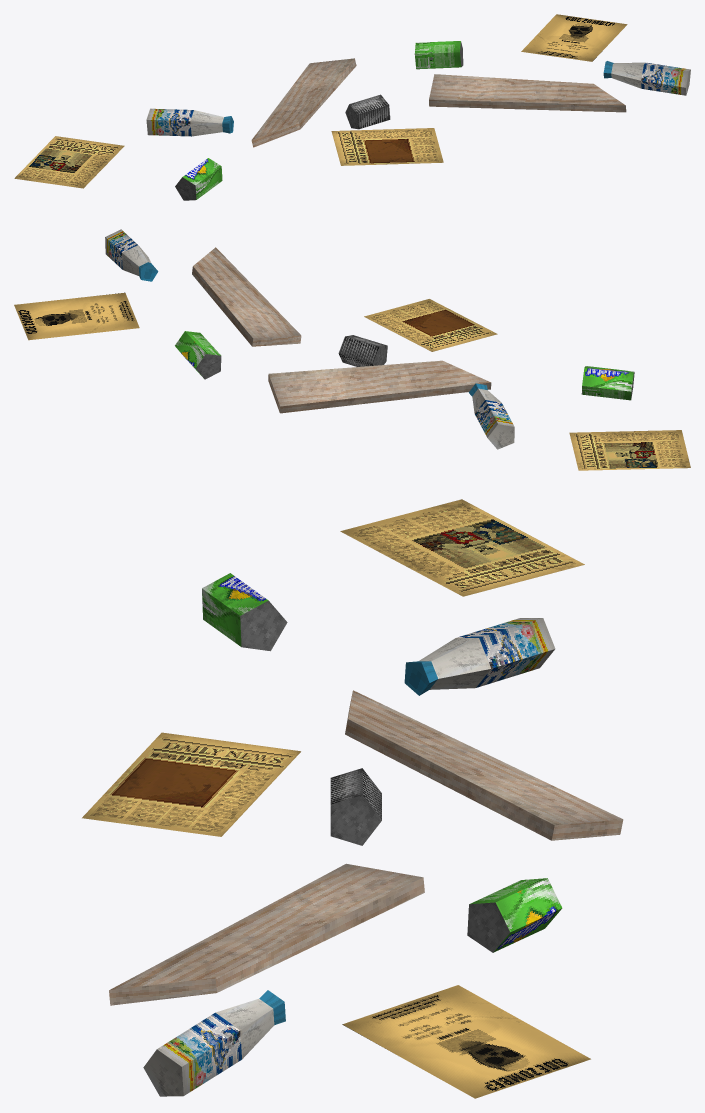
The model's file is garbage_stack_1.glb.
The picture shows the model from 3 angles, top to bottom: view 1: azimuth 30°, elevation 25°; view 2: azimuth 150°, elevation 25°; view 3: azimuth 270°, elevation 25°; orthographic projection. The views are drawn at different scales.
Visible parts, largest first — view 1: Plane; view 2: Plane; view 3: Plane.
Part boxes in pixels (x1,y1,x2,y2): Plane: (14, 14, 690, 200); Plane: (14, 229, 690, 470); Plane: (82, 499, 623, 1098).
Bounding box in the file's own units: 6.17 × 0.2682 × 2.35.
1 material, 1 textured.
